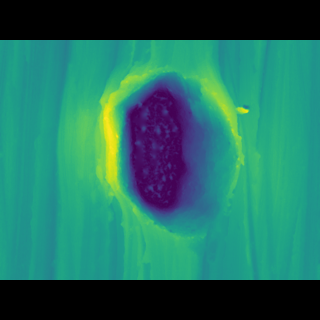Loch: (84, 79, 245, 231)
